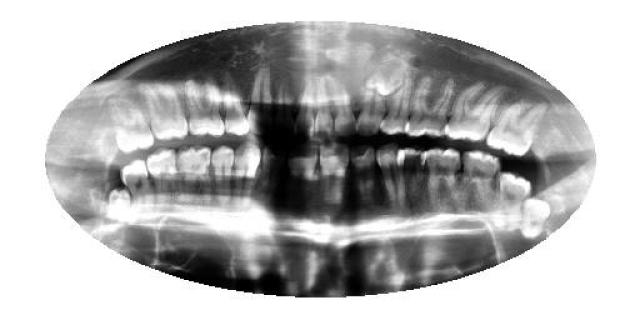Restorations: (520, 196, 554, 240)
